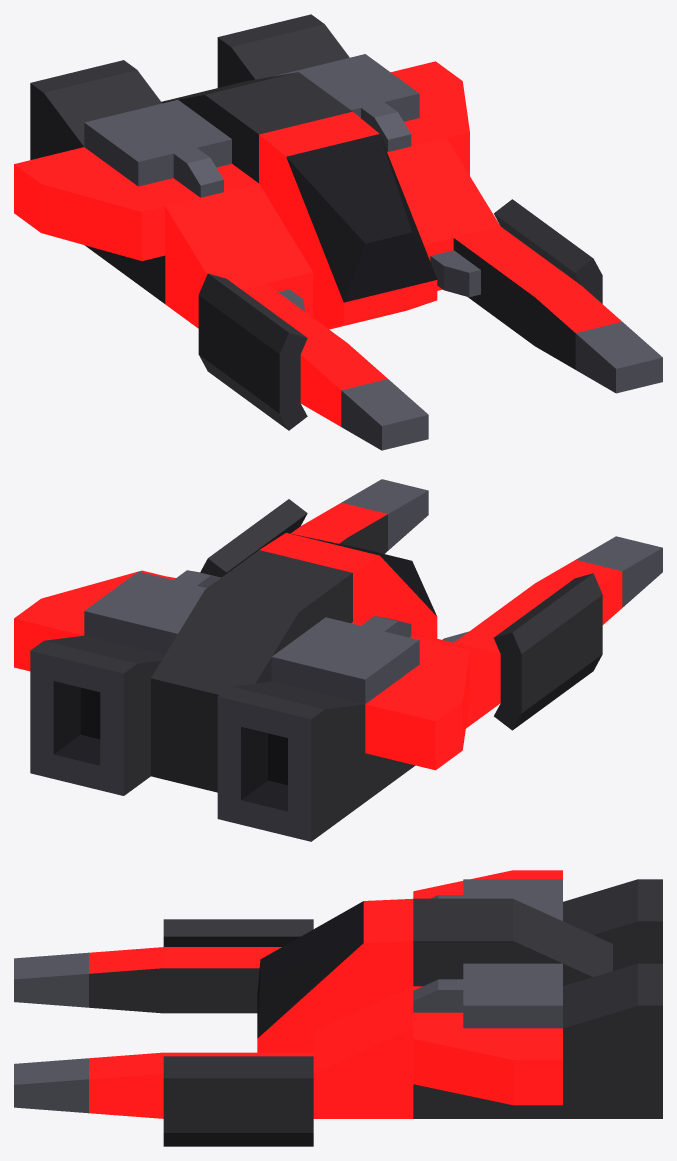
File: stealth.dae
3 renders of one model, top to bottom at view 1: azimuth 30°, elevation 25°; view 2: azimuth 150°, elevation 25°; view 3: azimuth 270°, elevation 25°, orthographic. The views are drawn at different scales.
Visible parts, largest first — view 1: craft_miner; view 2: craft_miner; view 3: craft_miner.
Part boxes in pixels (x1,y1,x2,y2): craft_miner: [14, 14, 662, 450]; craft_miner: [14, 479, 662, 841]; craft_miner: [14, 870, 662, 1146].
Size of the model in its own units: 1.8 by 0.7 by 2.6.
